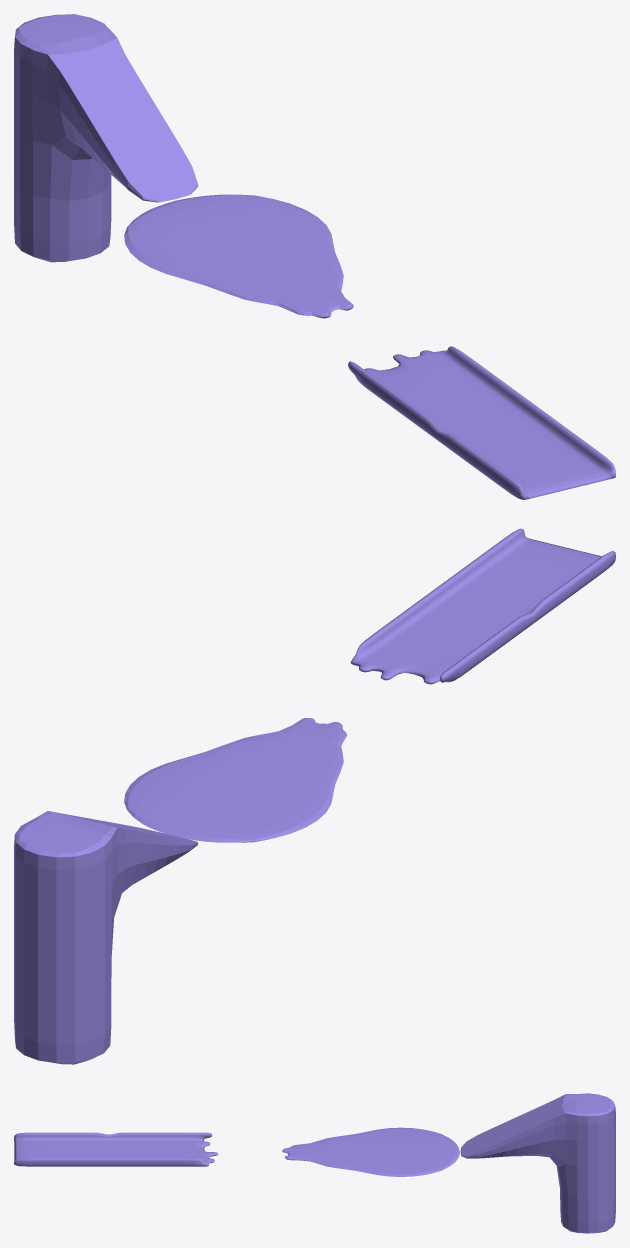
File: Floor_1_Level_Height1.fbx
3 views of the same model, one above another, from view 1: azimuth 30°, elevation 25°; view 2: azimuth 150°, elevation 25°; view 3: azimuth 270°, elevation 25° (orthographic). The views are drawn at different scales.
Parts seen in each view (by area): view 1: Exit Platform, FloorCenter, MainBridge; view 2: Exit Platform, FloorCenter, MainBridge; view 3: Exit Platform, MainBridge, FloorCenter.
Part boxes in pixels (x1,y1,x2,y2): Exit Platform: [14, 14, 198, 262]; FloorCenter: [124, 194, 353, 318]; MainBridge: [348, 346, 615, 499]; Exit Platform: [14, 811, 198, 1064]; FloorCenter: [124, 718, 347, 842]; MainBridge: [350, 528, 615, 684]; Exit Platform: [460, 1093, 615, 1233]; MainBridge: [14, 1132, 218, 1166]; FloorCenter: [282, 1127, 459, 1176].
Bounding box in the file's own units: 1828 × 2082 × 9423.
